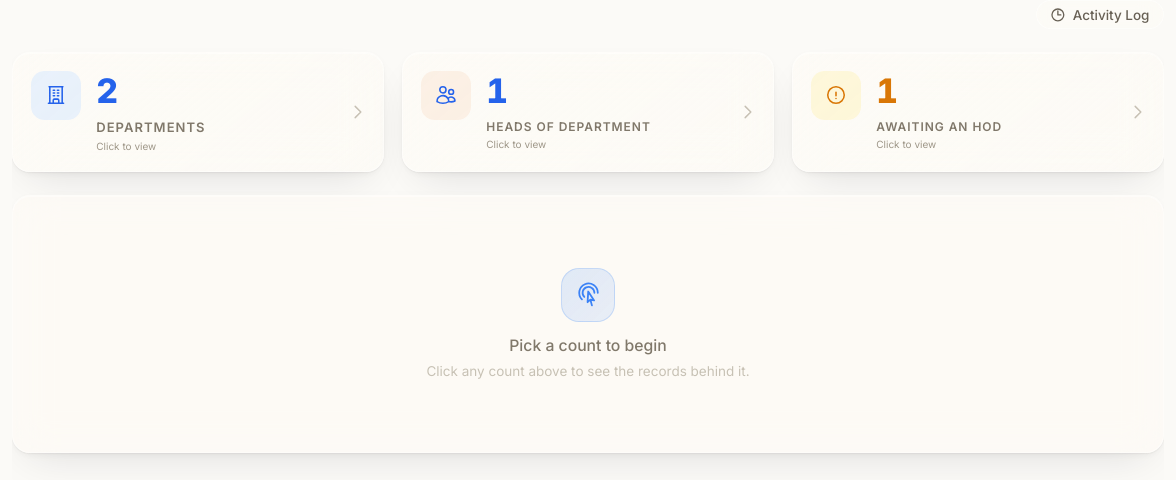
Scenario: AdminOverviewDrilldown — Awaiting an HOD view › lists only departments with no HOD, not those that have one
What coordinates should you click on to do the following:
click the button "1 Awaiting an HOD Click to view"
I would click on:
 (836, 95)
Its box is [792,52,1164,172].
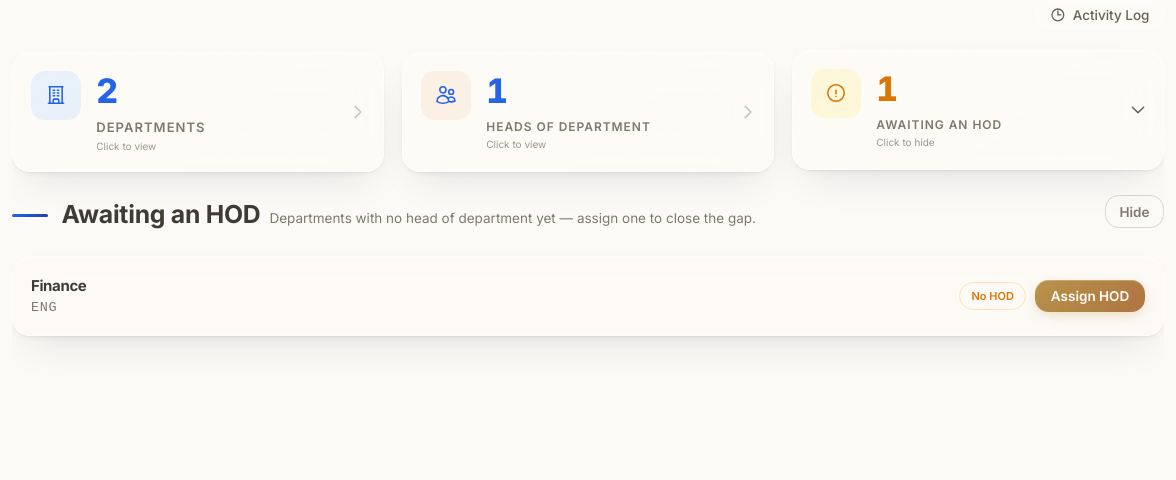
Check: the text "Finance" is shown, box [31,274,86,297]
